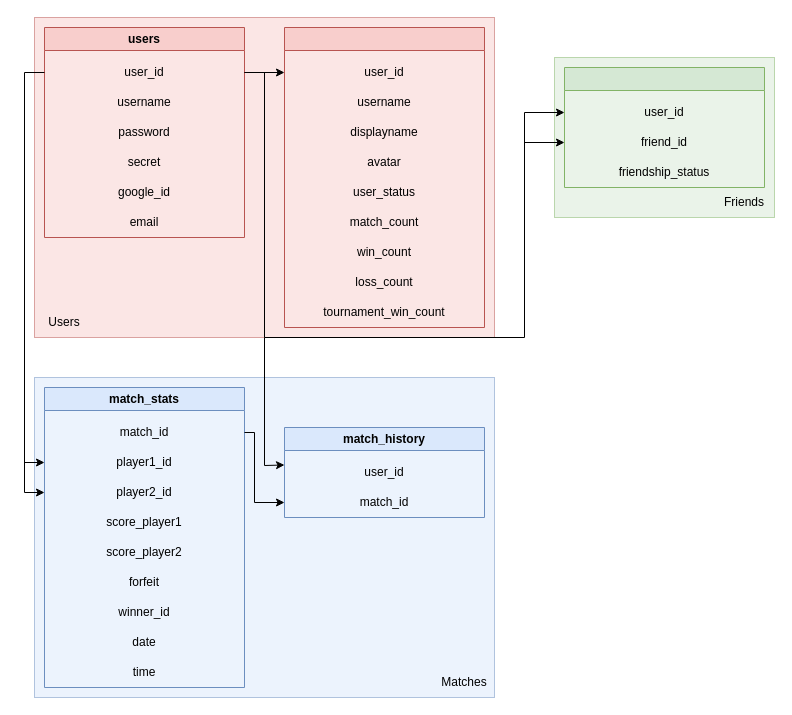
The diagram is 792 pixels wide and 715 high, and some of its shapes have lost their labels. Each missing label, with the box of its shape:
friend_list: (564, 66, 764, 188)
user_stats: (284, 26, 484, 328)
